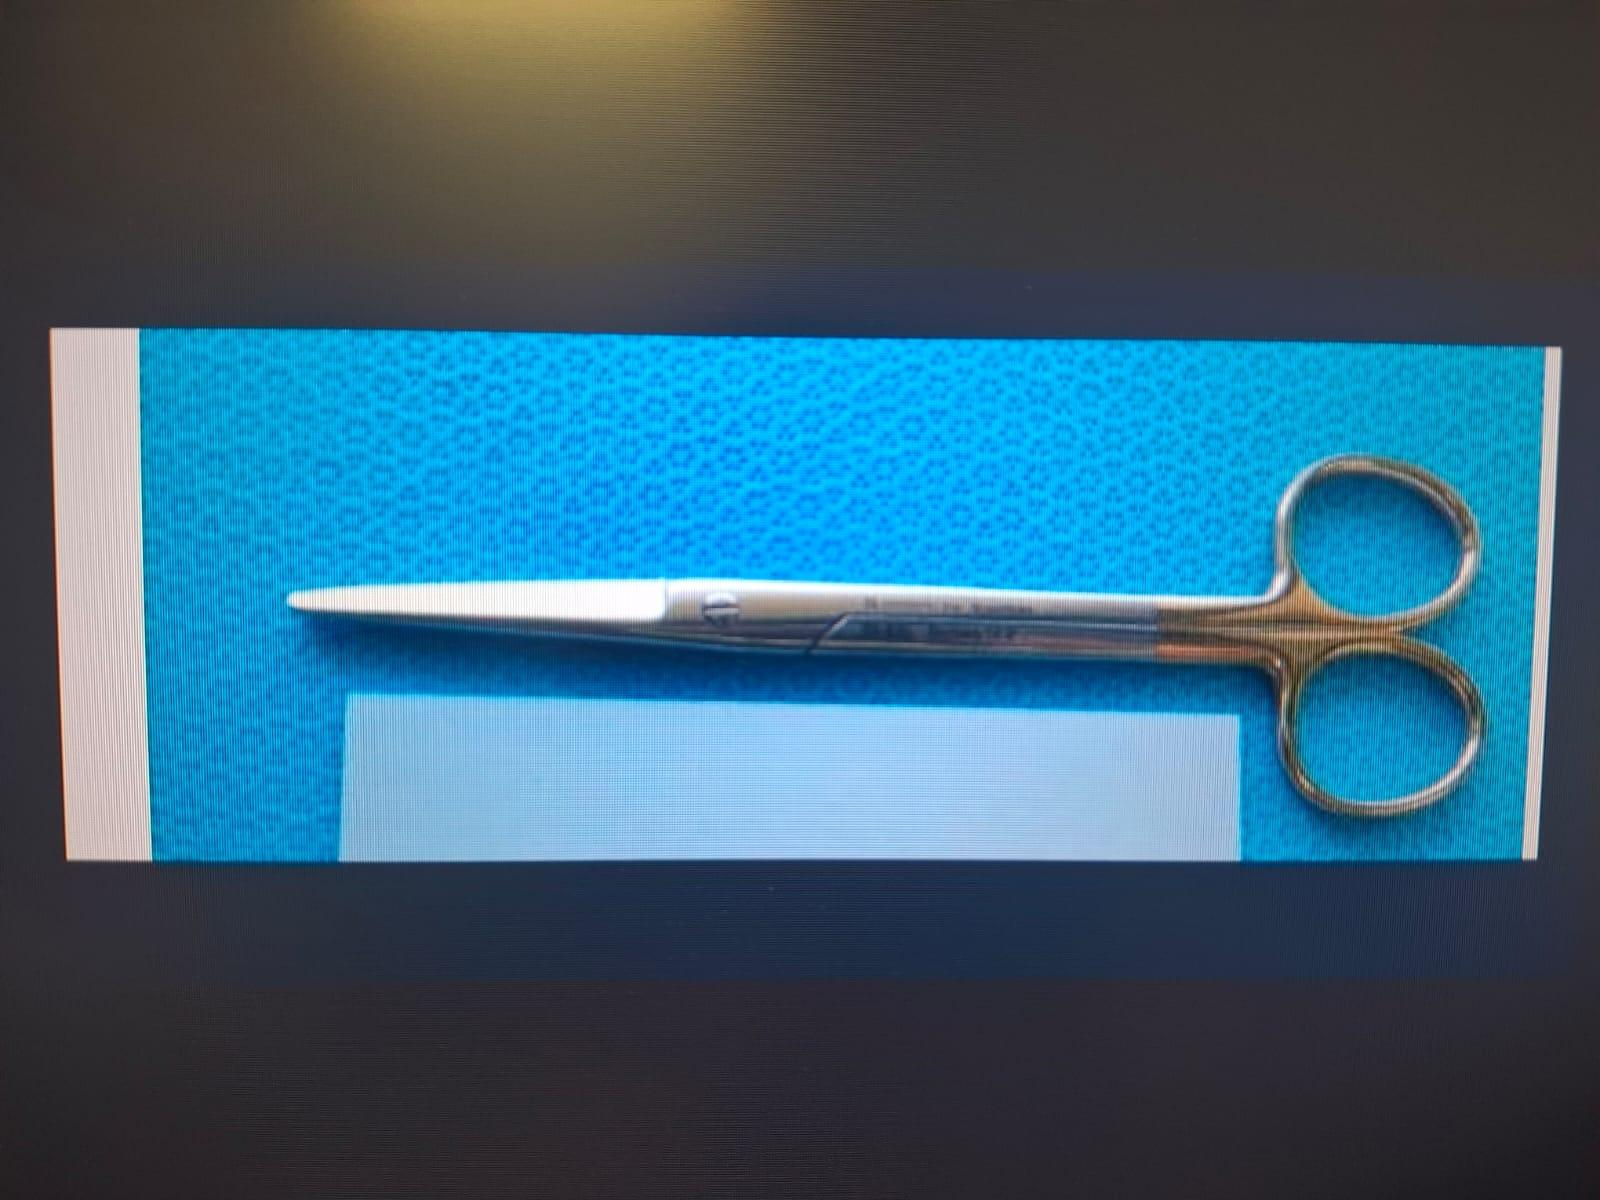Straight Mayo: (280, 422, 1498, 842)
